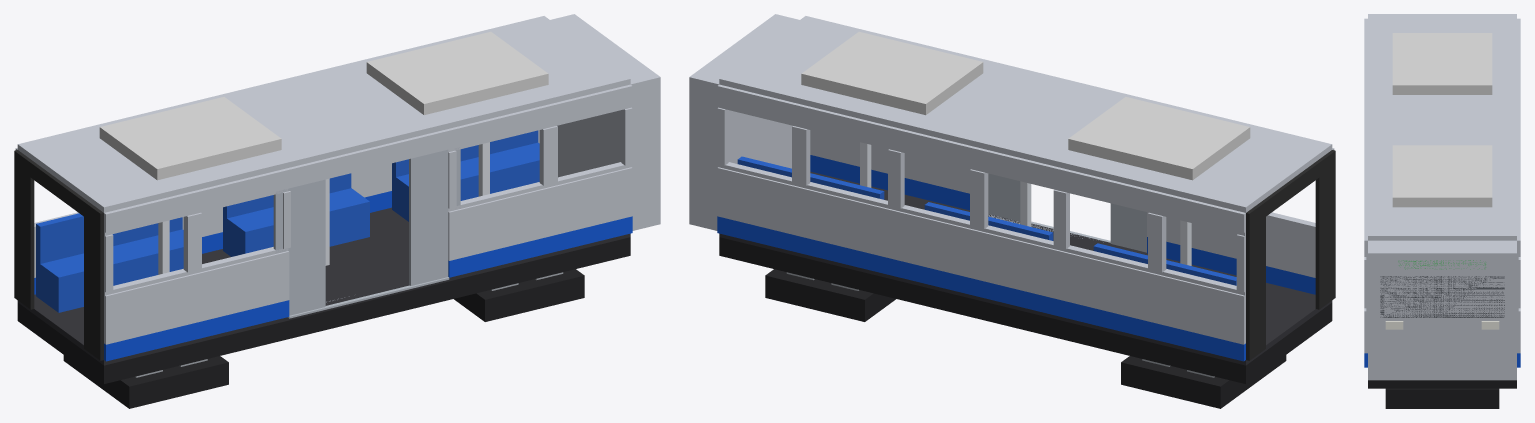
File: metro_wagon_lead_half_l1.obj
3 renders of one model, left to right at view 1: azimuth 30°, elevation 25°; view 2: azimuth 150°, elevation 25°; view 3: azimuth 270°, elevation 25°, orthographic. The views are drawn at different scales.
Bounding box in the file's own units: 3.16 × 1.26 × 0.88.
